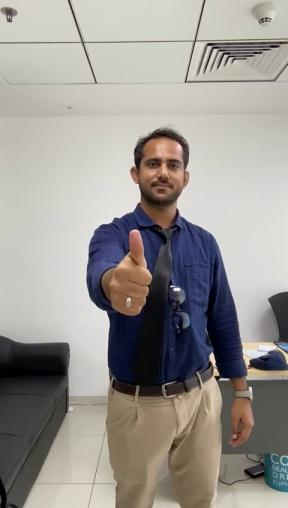thumbs-up: (104, 228, 160, 318)
